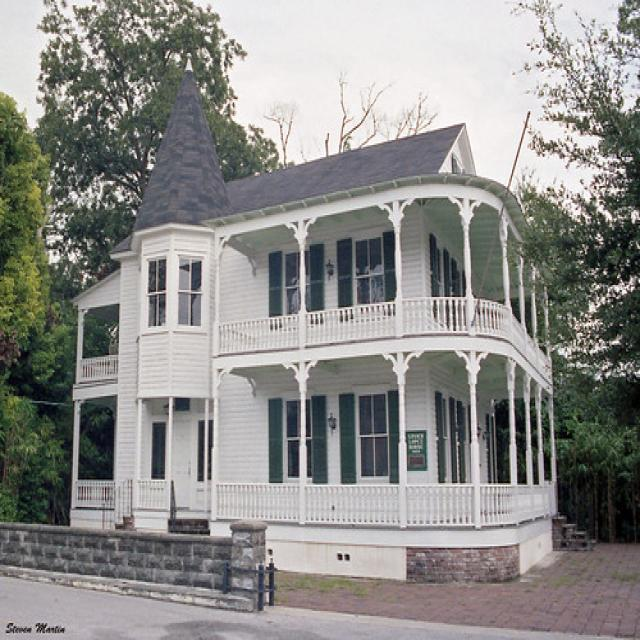Normal_building: (66, 70, 556, 584)
